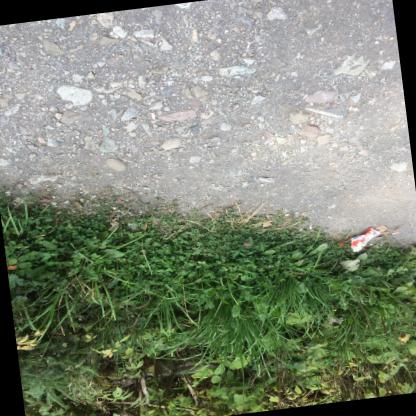Paper: (149, 111, 154, 118)
Plastic: (338, 225, 379, 250)
